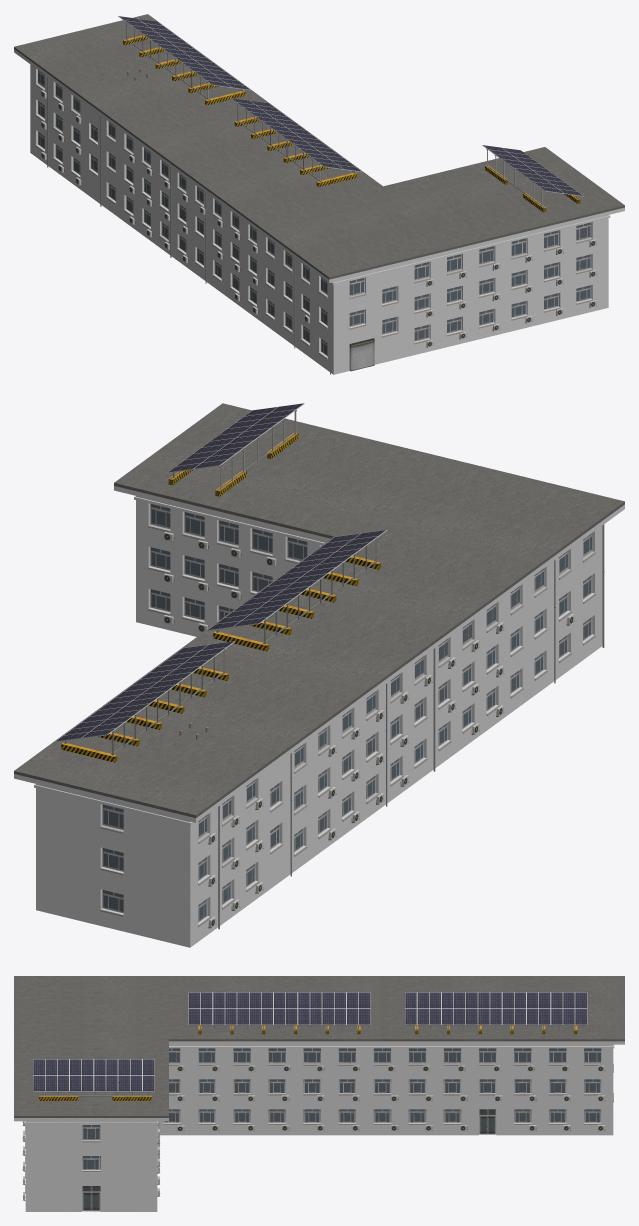
The model's file is sushe.glb.
3 renders of one model, top to bottom at view 1: azimuth 30°, elevation 25°; view 2: azimuth 150°, elevation 25°; view 3: azimuth 270°, elevation 25°, orthographic. The views are drawn at different scales.
Parts seen in each view (by area): view 1: polySurface8, pCube141; view 2: polySurface8, pCube141; view 3: polySurface8, pCube141.
Boxes of the visible parts, box(x1,y1,x2,y2) form: polySurface8: box(14, 14, 624, 374); pCube141: box(35, 84, 592, 359); polySurface8: box(14, 403, 624, 947); pCube141: box(100, 525, 595, 926); polySurface8: box(14, 976, 624, 1211); pCube141: box(25, 1063, 613, 1196).
Size of the model in its own units: 30.94 by 13.79 by 57.13.
Materials: 19 (15 with a texture image).
